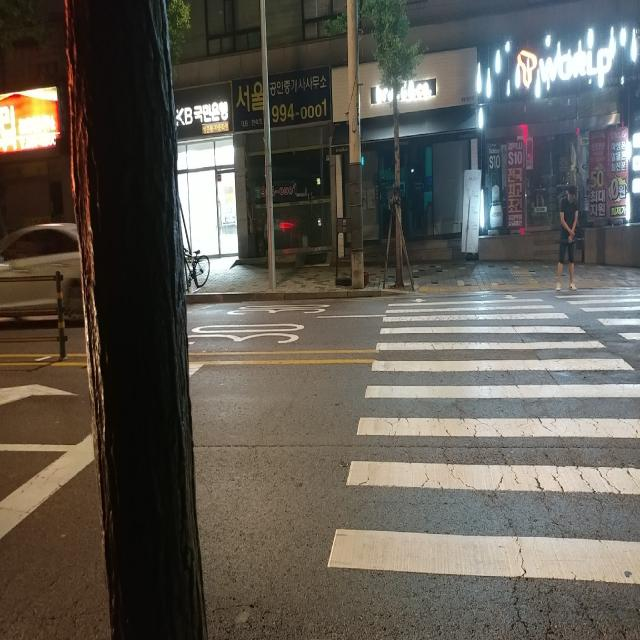횡단보도: (325, 290, 640, 591)
